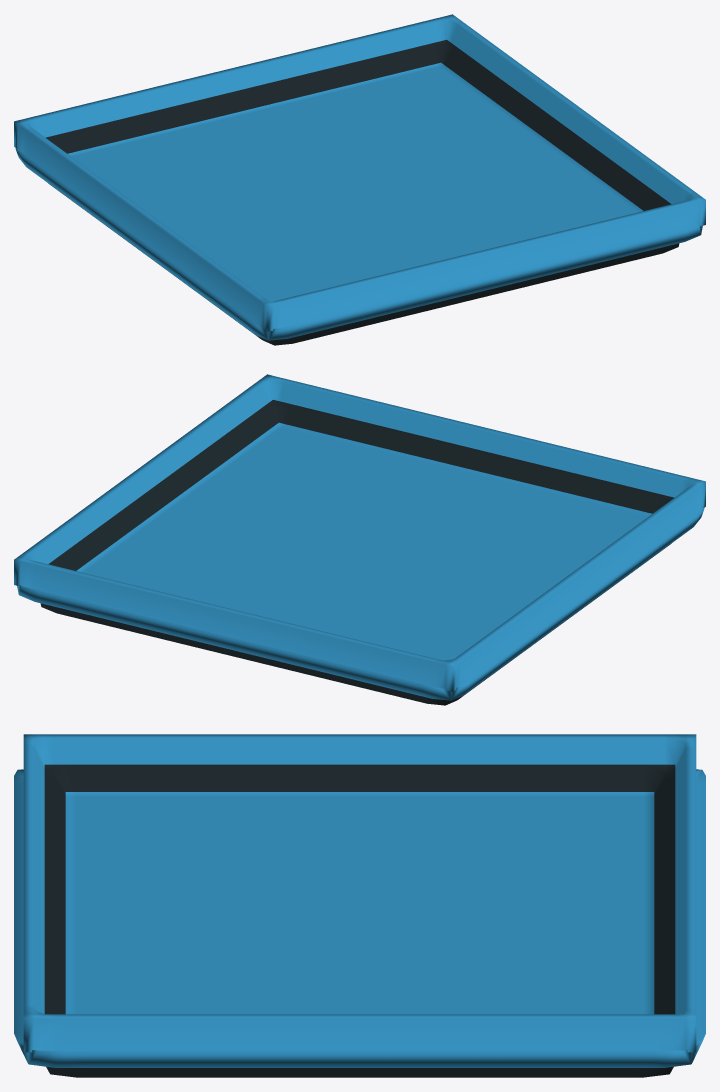
File: Map.fbx
3 views of the same model, one above another, from view 1: azimuth 30°, elevation 25°; view 2: azimuth 150°, elevation 25°; view 3: azimuth 270°, elevation 25° (orthographic). The views are drawn at different scales.
Parts seen in each view (by area): view 1: 평면; view 2: 평면; view 3: 평면.
Part boxes in pixels (box(x1,y1,x2,y2)): 평면: box(14, 14, 705, 345); 평면: box(14, 374, 705, 705); 평면: box(14, 734, 705, 1077).
Bounding box in the file's own units: 5907 × 691 × 5907.
